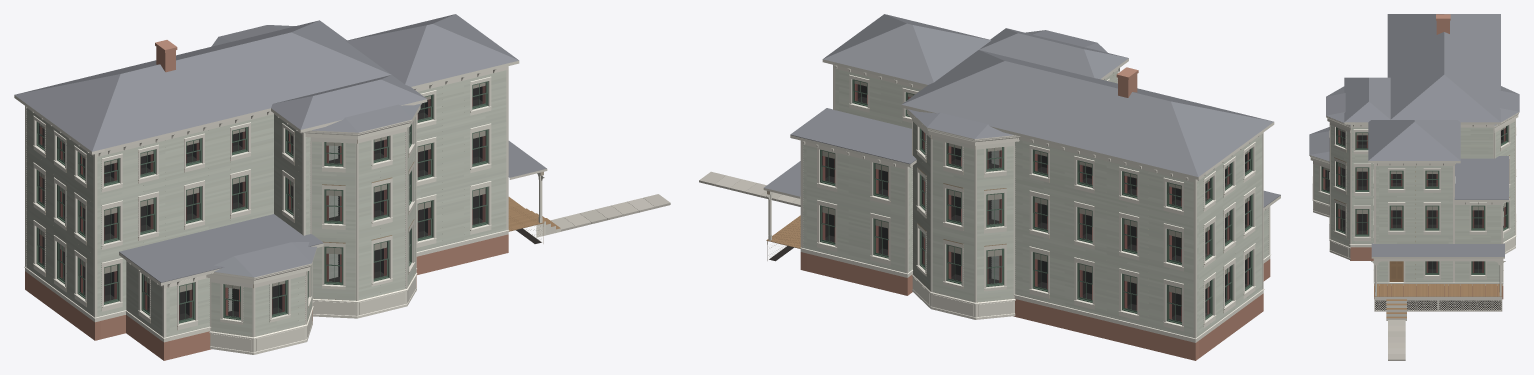
The model's file is house_2010_prairie__as_mapped_1904.glb.
3 renders of one model, left to right at view 1: azimuth 30°, elevation 25°; view 2: azimuth 150°, elevation 25°; view 3: azimuth 270°, elevation 25°, orthographic. The views are drawn at different scales.
Parts seen in each view (by area): view 1: house_2010_prairie__as_mapped_1904; view 2: house_2010_prairie__as_mapped_1904; view 3: house_2010_prairie__as_mapped_1904.
Boxes of the visible parts, box(x1,y1,x2,y2) form: house_2010_prairie__as_mapped_1904: box(14, 14, 670, 360); house_2010_prairie__as_mapped_1904: box(699, 14, 1280, 360); house_2010_prairie__as_mapped_1904: box(1309, 14, 1519, 360).
Size of the model in its own units: 32.74 by 13.29 by 14.17.
